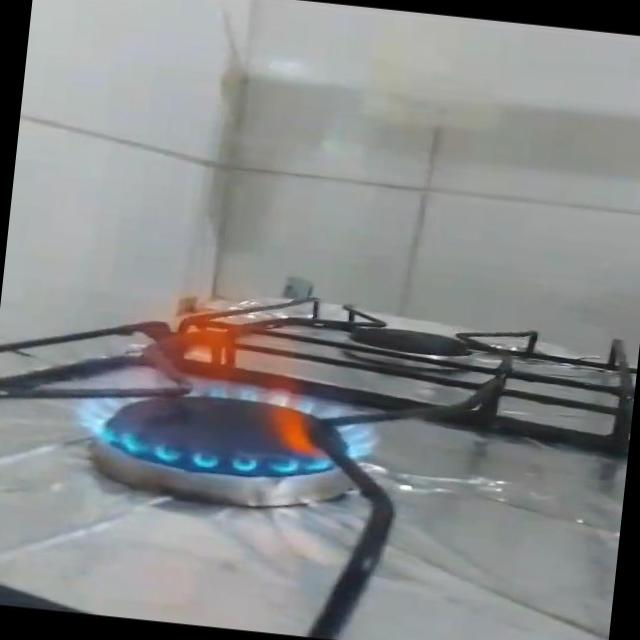Fire: (64, 267, 398, 492)
